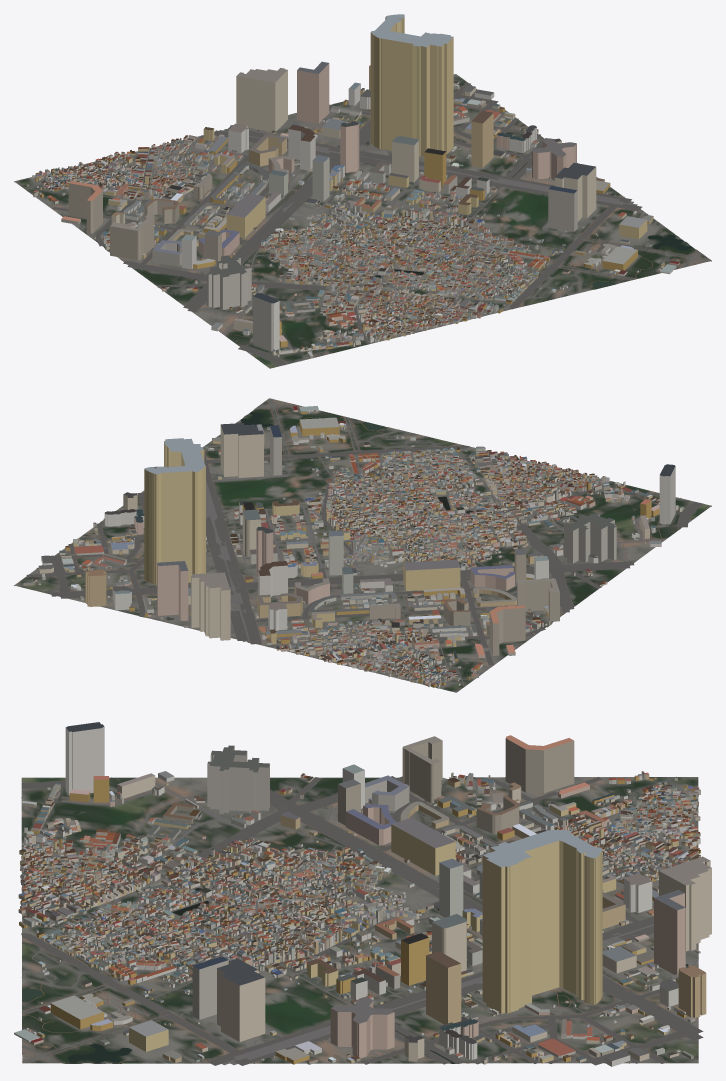
3 views of the same model, one above another, from view 1: azimuth 30°, elevation 25°; view 2: azimuth 150°, elevation 25°; view 3: azimuth 270°, elevation 25° (orthographic). The views are drawn at different scales.
Parts seen in each view (by area): view 1: buildings, ground, roads, water; view 2: buildings, ground, roads, water; view 3: buildings, ground, roads, water.
Boxes of the visible parts, x1,y1,x2,y2 form: buildings: (26, 14, 679, 358); ground: (14, 74, 711, 368); roads: (22, 82, 710, 366); water: (107, 107, 693, 288); buildings: (23, 406, 684, 688); ground: (14, 398, 711, 692); roads: (26, 398, 703, 686); water: (143, 411, 548, 625); buildings: (14, 722, 711, 1066); ground: (21, 777, 698, 1063); roads: (21, 776, 703, 1065); water: (22, 780, 688, 1063).
Size of the model in its own units: 1436 by 339 by 1446.
